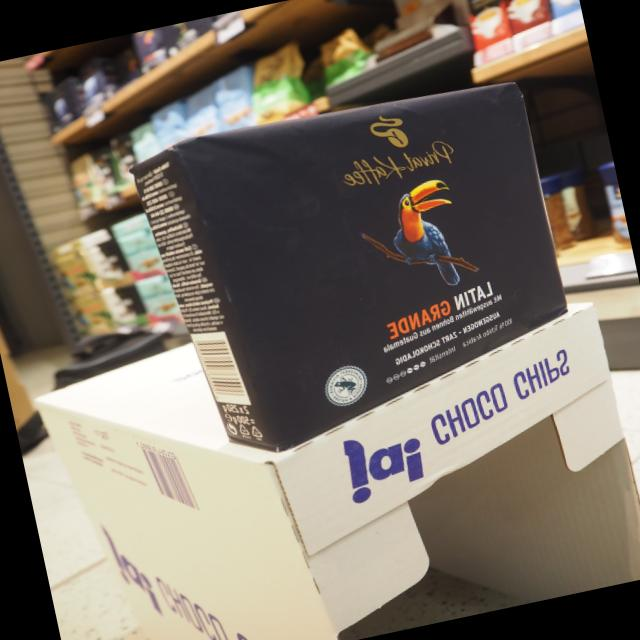LG Gemahlen: (179, 78, 573, 455)
